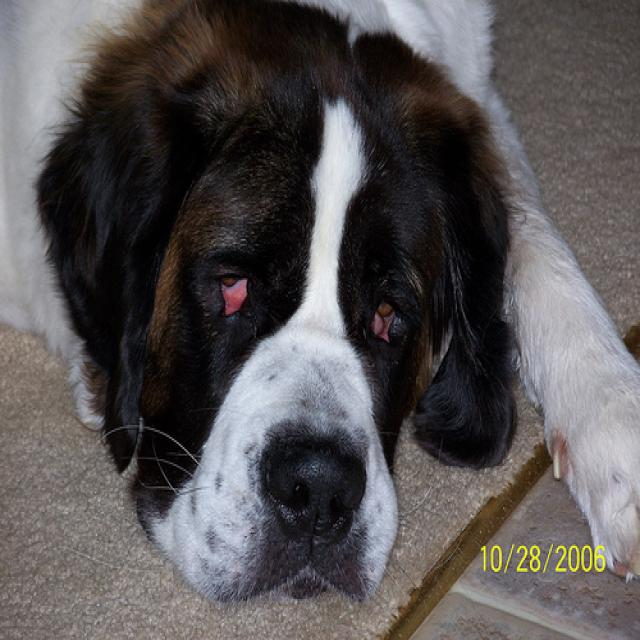dog: (35, 58, 513, 608)
